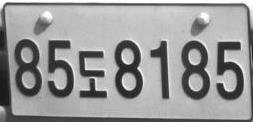1: (148, 40, 177, 99)
5: (214, 40, 244, 101), (46, 39, 75, 98)
8: (180, 39, 211, 101), (13, 37, 43, 97), (113, 39, 143, 99)
도: (77, 49, 107, 99)
